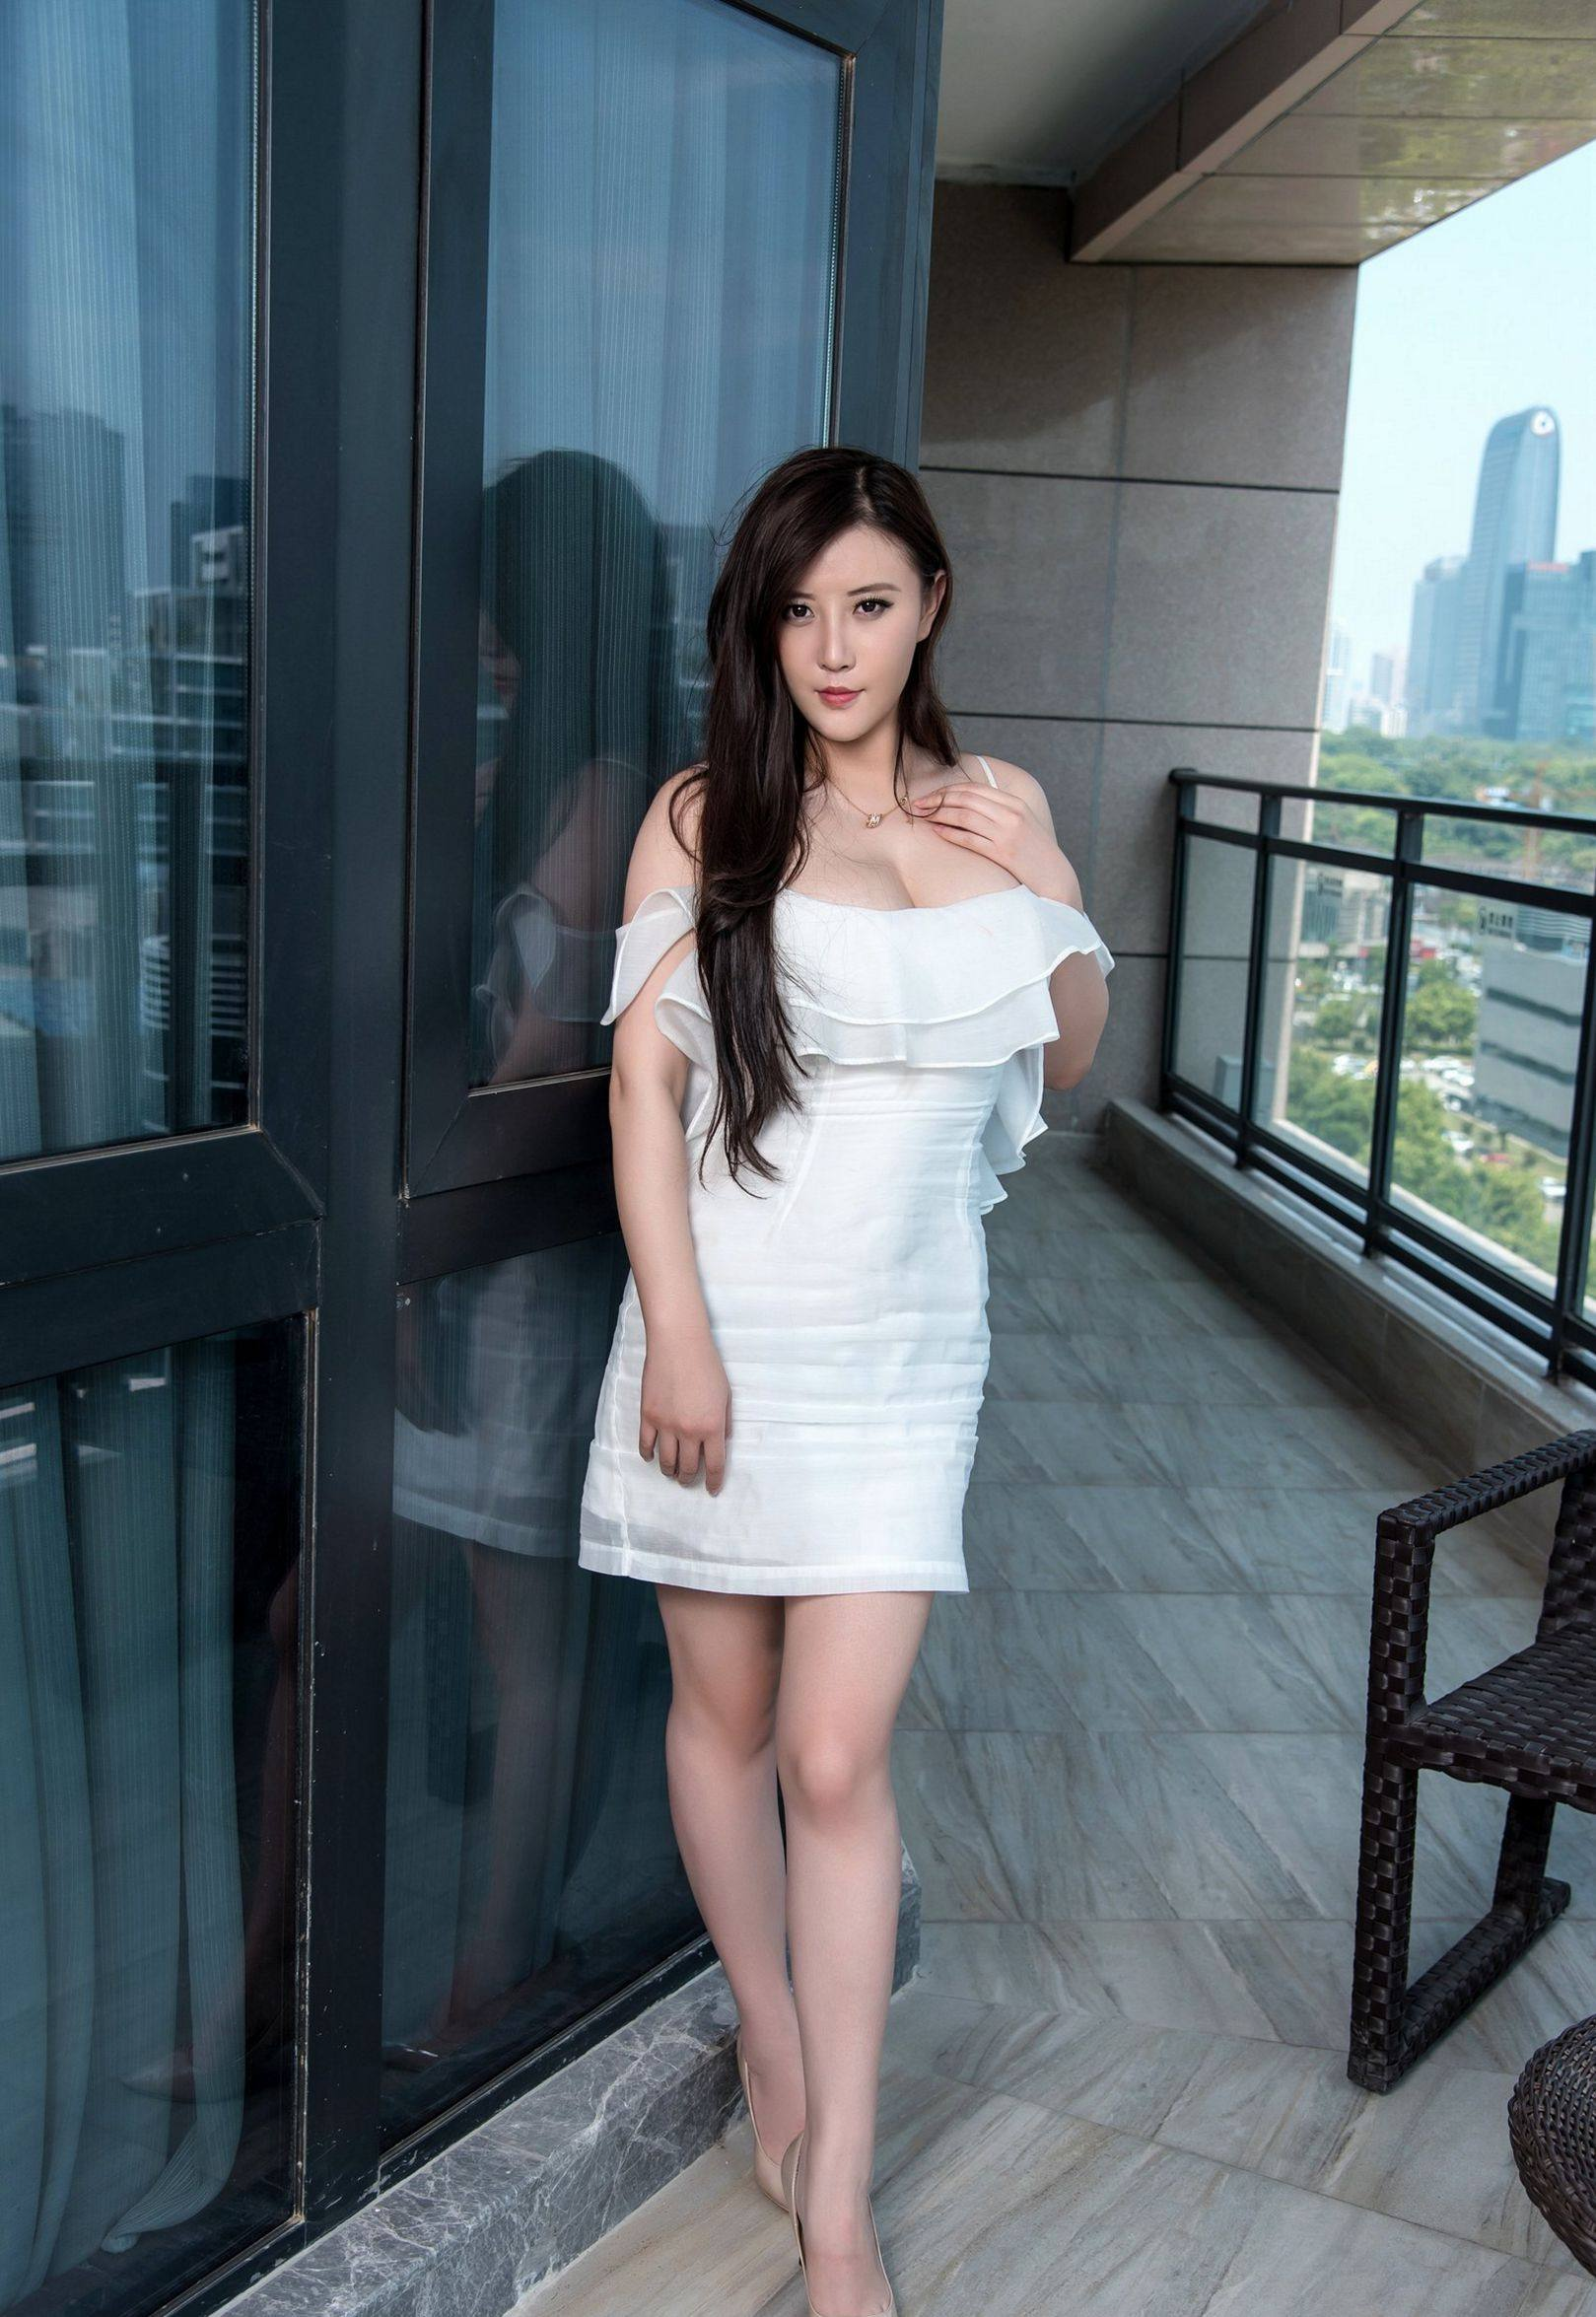person: (399, 463, 1084, 2073)
